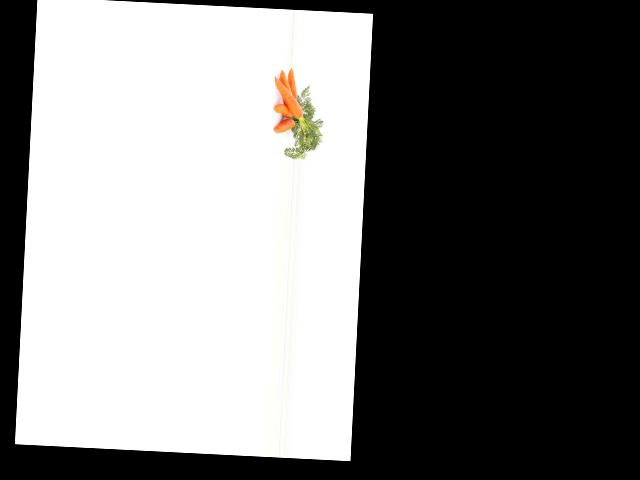carrot: (270, 77, 307, 124)
